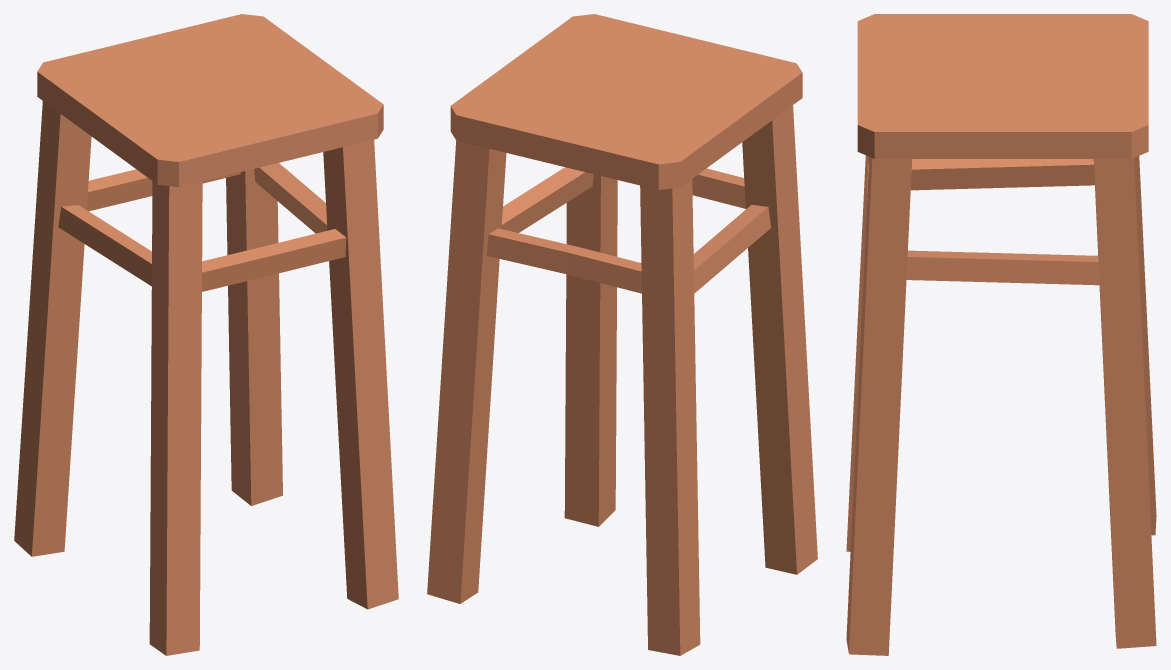
Rendered from SM_Furniture_BarStool_01.fbx.
The picture shows the model from 3 angles, left to right: view 1: azimuth 30°, elevation 25°; view 2: azimuth 150°, elevation 25°; view 3: azimuth 270°, elevation 25°; orthographic projection. The views are drawn at different scales.
Visible parts, largest first — view 1: BarStool_01; view 2: BarStool_01; view 3: BarStool_01.
Part boxes in pixels (x1,y1,x2,y2): BarStool_01: (14,14,398,655); BarStool_01: (427,14,817,655); BarStool_01: (846,14,1156,655).
Bounding box in the file's own units: 51.9 × 96.88 × 51.86.
